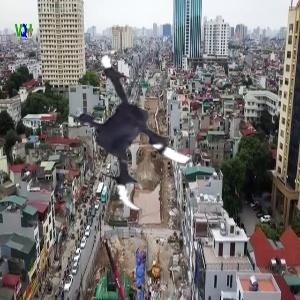drone: (55, 50, 221, 216)
